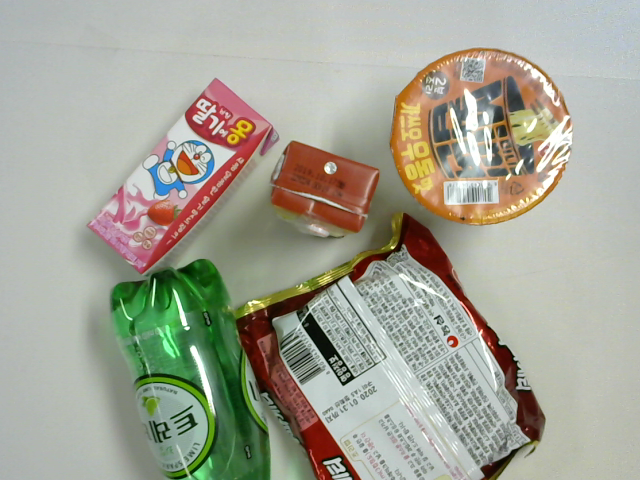Choco_E_Mong: (272, 146, 382, 247)
Sichuan_Chapaghetti: (256, 233, 536, 472)
Strawberry_E_Mong: (83, 83, 287, 245)
Treviraim_500ml: (119, 262, 302, 480)
Udongmini: (386, 54, 563, 217)
